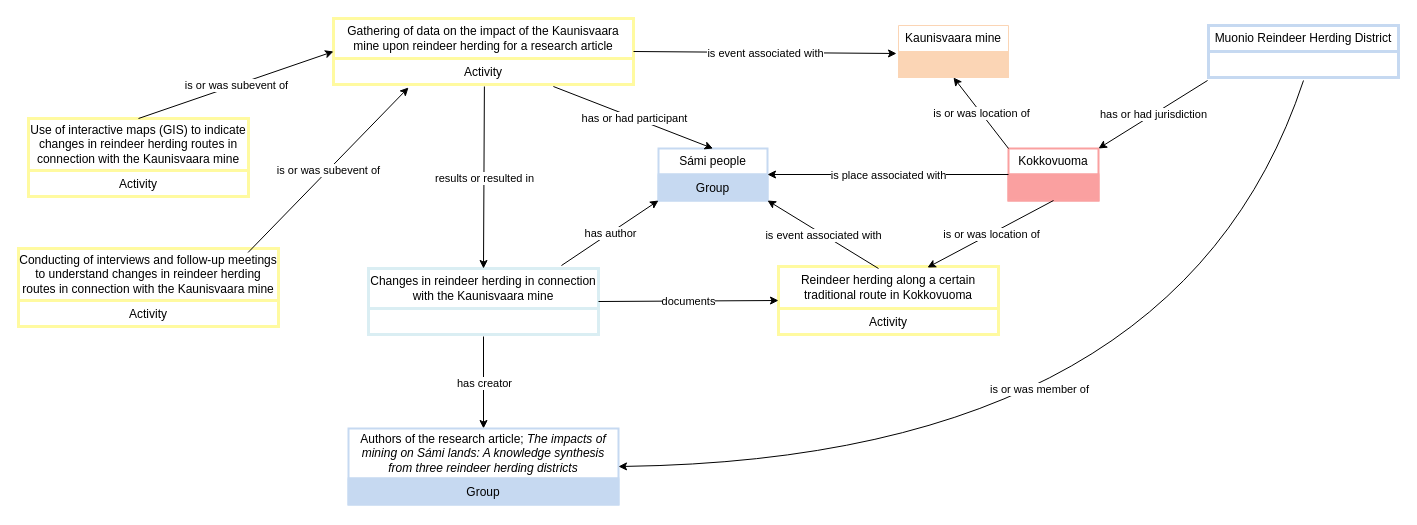
Some shapes in this 1417 by 525 pixel diagram are drawn without their labels. The centre of each missing label's shape, as x and y in pixels:
"Corporate Body" goes at (1303,64).
"Place" goes at (1053,187).
"Record" goes at (483,321).
"Thing" goes at (953,64).
